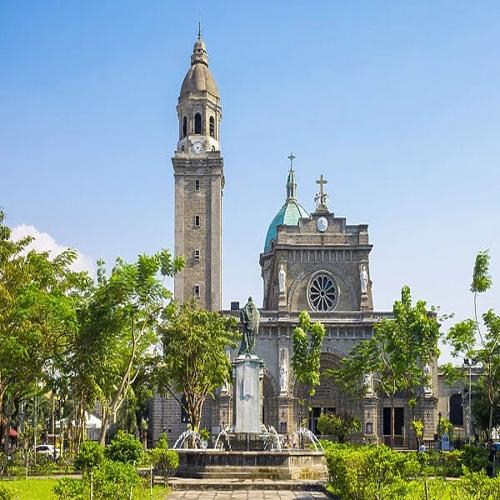Manila Cathedral Church: (125, 16, 454, 468)
